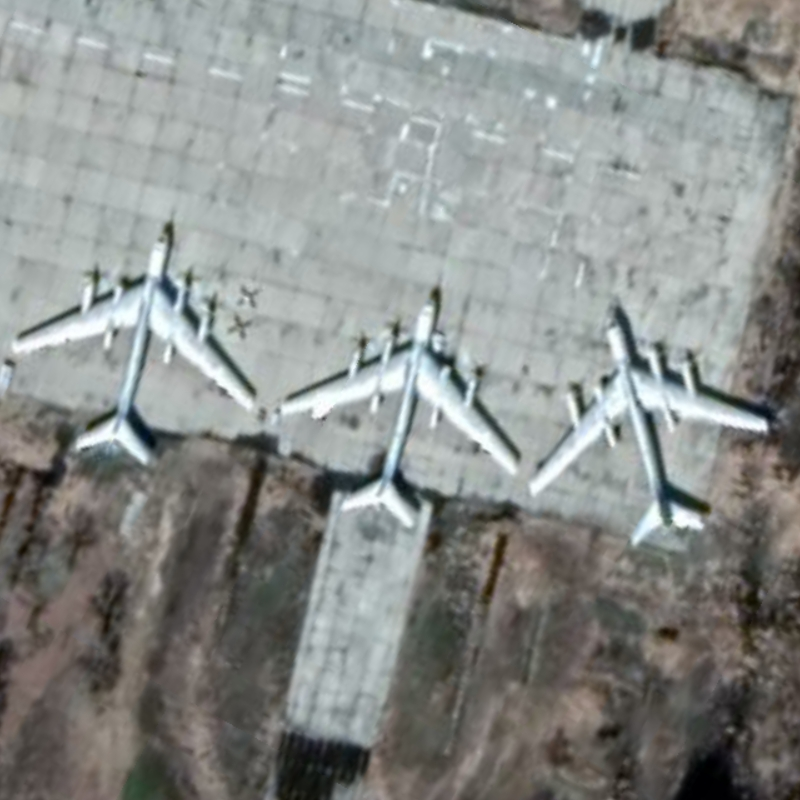A17: (9, 227, 259, 470), (523, 312, 773, 550), (277, 295, 523, 532)
